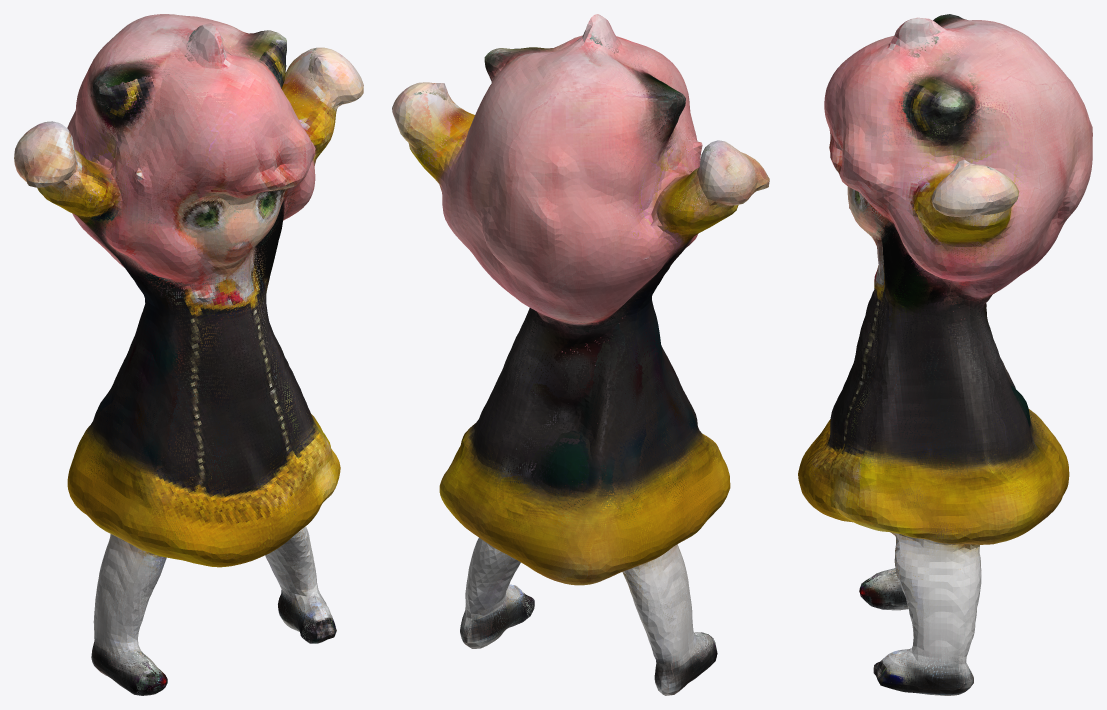
File: anya.glb
3 views of the same model, side by side, from view 1: azimuth 30°, elevation 25°; view 2: azimuth 150°, elevation 25°; view 3: azimuth 270°, elevation 25° (orthographic). The views are drawn at different scales.
Bounding box in the file's own units: 1.03 × 1.8 × 0.7595.
Materials: 1 (1 with a texture image).
